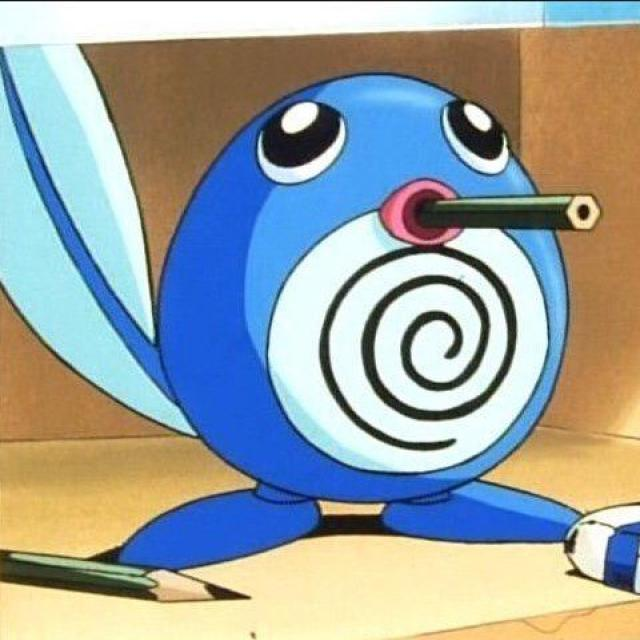Poliwag: (138, 60, 587, 548)
